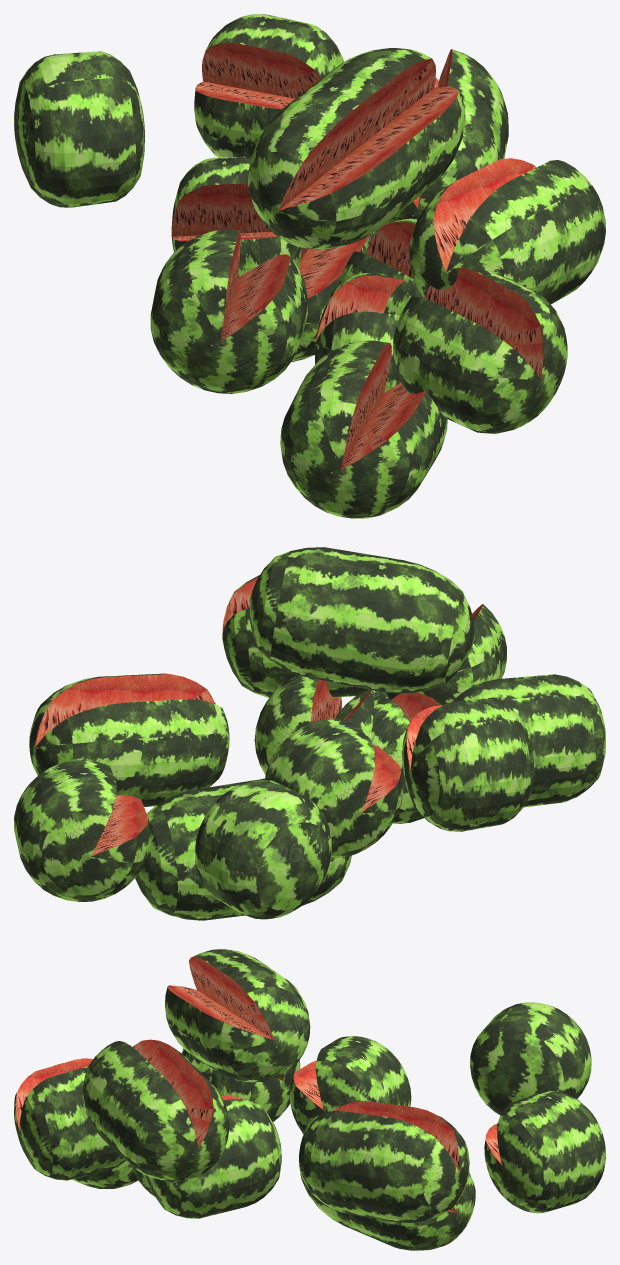
File: Sandia.fbx
3 renders of one model, top to bottom at view 1: azimuth 30°, elevation 25°; view 2: azimuth 150°, elevation 25°; view 3: azimuth 270°, elevation 25°, orthographic. The views are drawn at different scales.
Visible parts, largest first — view 1: Sphere.001; view 2: Sphere.001; view 3: Sphere.001.
Boxes of the visible parts, left/top/right/bottom form: Sphere.001: left=14, top=14, right=605, bottom=518; Sphere.001: left=14, top=547, right=605, bottom=920; Sphere.001: left=14, top=949, right=605, bottom=1250.
Bounding box in the file's own units: 73.38 × 53.49 × 110.
Materials: 3 (3 with a texture image).
